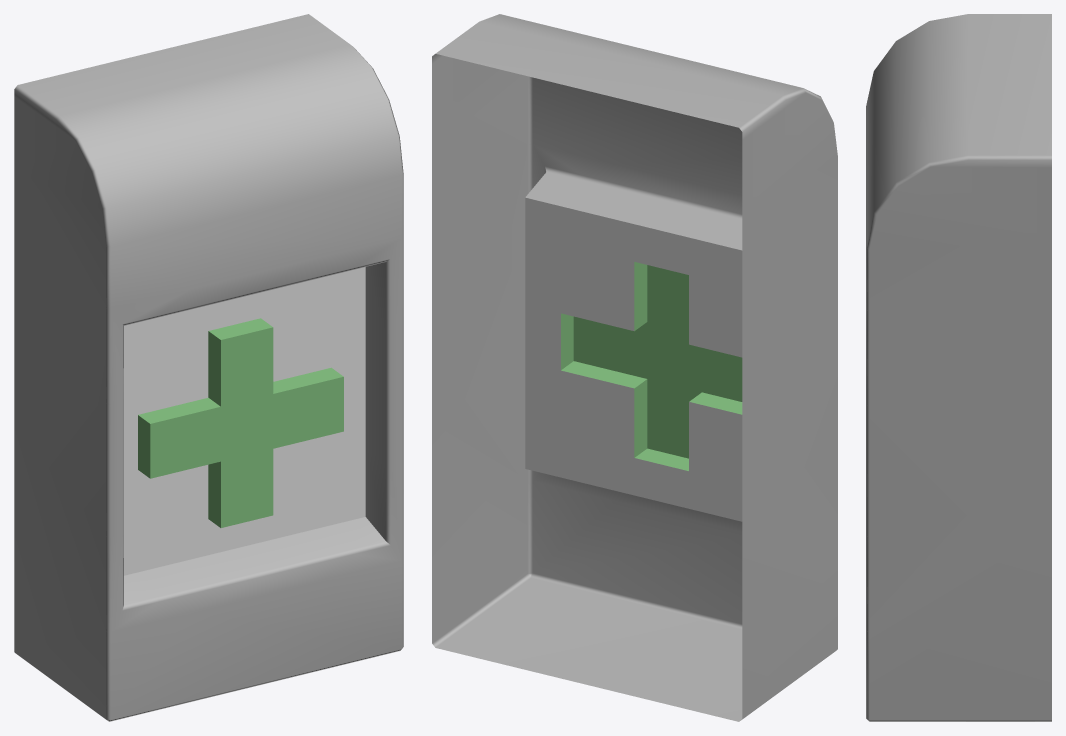
Rendered from cage_health.fbx.
3 views of the same model, side by side, from view 1: azimuth 30°, elevation 25°; view 2: azimuth 150°, elevation 25°; view 3: azimuth 270°, elevation 25° (orthographic). The views are drawn at different scales.
Visible parts, largest first — view 1: cage_health; view 2: cage_health; view 3: cage_health.
Boxes of the visible parts, x1,y1,x2,y2 form: cage_health: (14, 14, 403, 721); cage_health: (432, 14, 837, 721); cage_health: (866, 14, 1051, 721).
Size of the model in its own units: 0.8366 by 1.53 by 0.4553.
